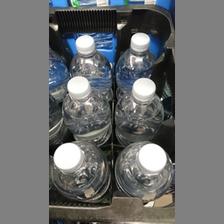water: (52, 140, 111, 201), (113, 141, 176, 197), (61, 75, 111, 144), (113, 75, 161, 140), (68, 32, 113, 90), (115, 33, 156, 83)
